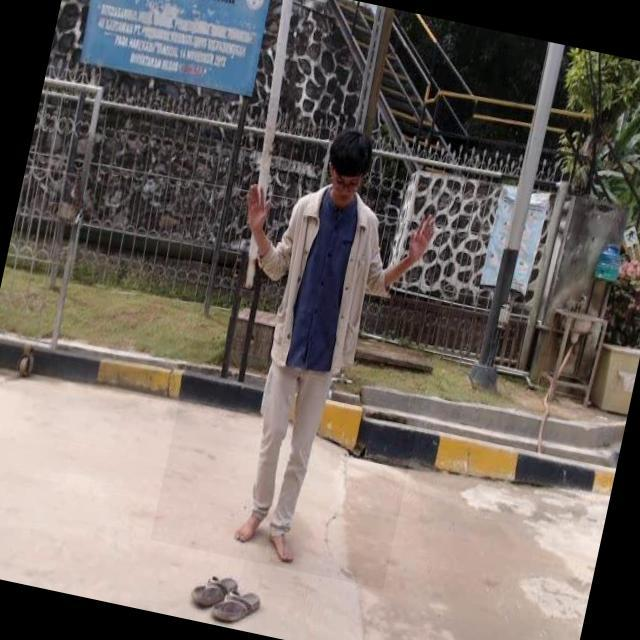Person: (222, 117, 448, 564)
bare-arms: (238, 178, 280, 239), (405, 208, 440, 273)
no-boot: (231, 502, 308, 566)
no-helmet: (323, 128, 378, 176)
no-vest: (254, 185, 394, 379)
